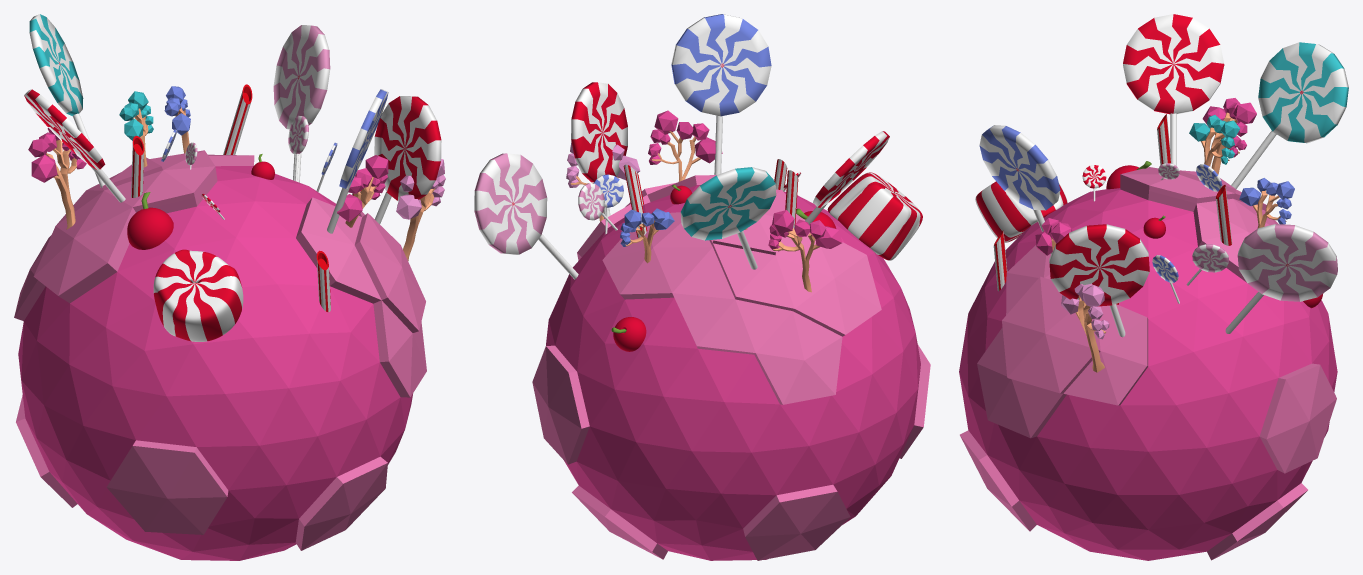
File: mordecaiınrigbyiallahınakavuşturduğugezegen.fbx
3 views of the same model, side by side, from view 1: azimuth 30°, elevation 25°; view 2: azimuth 150°, elevation 25°; view 3: azimuth 270°, elevation 25° (orthographic). The views are drawn at different scales.
Parts seen in each view (by area): view 1: Icosphere.009, Circle.009, Circle.005, Circle.006, Circle.001, Circle, Circle.003, Cylinder, Icosphere.014, Icosphere.011, Icosphere.012, Cube.033 (+7 smaller); view 2: Icosphere.009, Circle.003, Circle.006, Circle.001, Circle.009, Circle.005, Circle, Icosphere.014, Icosphere.011, Icosphere.013, Cylinder.001, Circle.010 (+5 smaller); view 3: Icosphere.009, Circle, Circle.001, Circle.006, Circle.005, Circle.003, Circle.009, Icosphere.012, Icosphere.011, Icosphere.013, Icosphere.010, Circle.010 (+10 smaller).
Part boxes in pixels (x1,y1,x2,y2): Icosphere.009: [14, 150, 426, 560]; Circle.009: [153, 249, 243, 341]; Circle.005: [374, 96, 441, 224]; Circle.006: [273, 25, 330, 182]; Circle.001: [29, 14, 104, 187]; Circle: [24, 89, 125, 202]; Circle.003: [327, 89, 388, 233]; Cylinder: [127, 192, 173, 249]; Icosphere.014: [337, 155, 388, 221]; Icosphere.011: [28, 127, 86, 182]; Icosphere.012: [396, 158, 445, 219]; Cube.033: [46, 140, 76, 229]; Icosphere.009: [532, 175, 930, 560]; Circle.003: [671, 14, 771, 174]; Circle.006: [474, 153, 578, 279]; Circle.001: [680, 167, 776, 269]; Circle.009: [827, 172, 922, 260]; Circle.005: [571, 82, 627, 218]; Circle: [796, 131, 889, 237]; Icosphere.014: [648, 110, 722, 164]; Icosphere.011: [768, 210, 842, 251]; Icosphere.013: [620, 208, 674, 246]; Cylinder.001: [611, 317, 646, 351]; Circle.010: [578, 183, 617, 230]; Icosphere.009: [959, 167, 1337, 560]; Circle: [1123, 14, 1224, 166]; Circle.001: [1231, 42, 1348, 188]; Circle.006: [1225, 224, 1337, 333]; Circle.005: [1049, 224, 1149, 337]; Circle.003: [979, 125, 1060, 254]; Circle.009: [975, 181, 1067, 242]; Icosphere.012: [1061, 283, 1109, 339]; Icosphere.011: [1202, 98, 1256, 157]; Icosphere.013: [1239, 178, 1294, 224]; Icosphere.010: [1189, 115, 1240, 164]; Circle.010: [1186, 244, 1228, 285].
Bounding box in the file's own units: 803 × 993 × 769.
